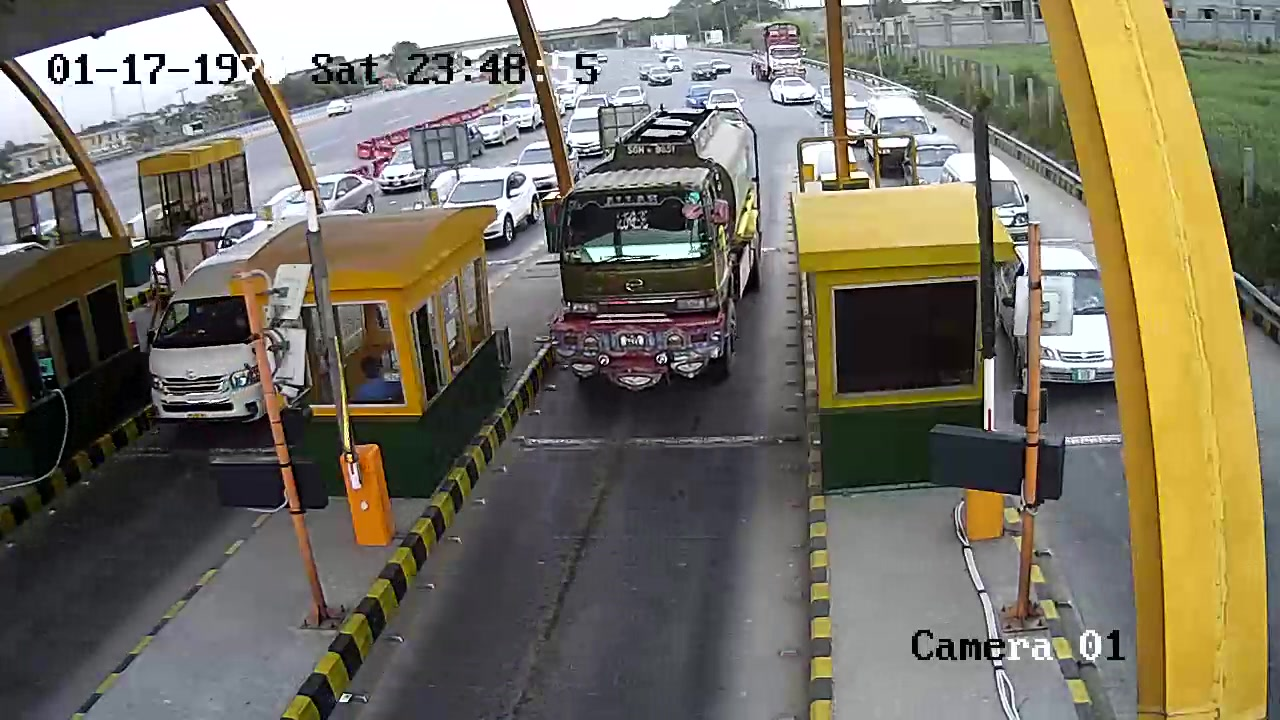F5: (549, 104, 767, 401)
